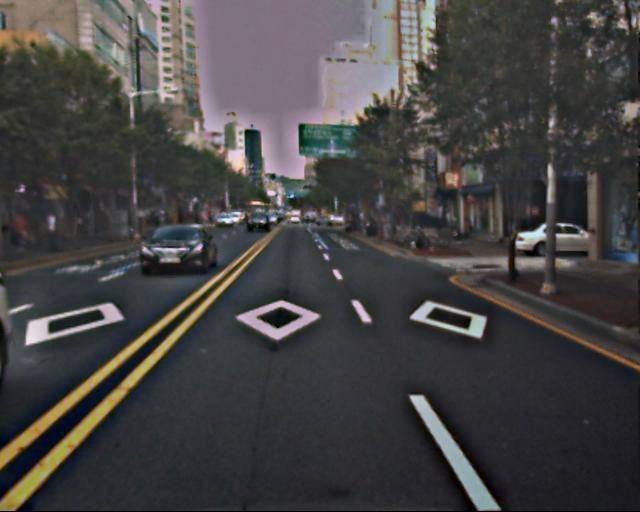person: (44, 211, 60, 251)
